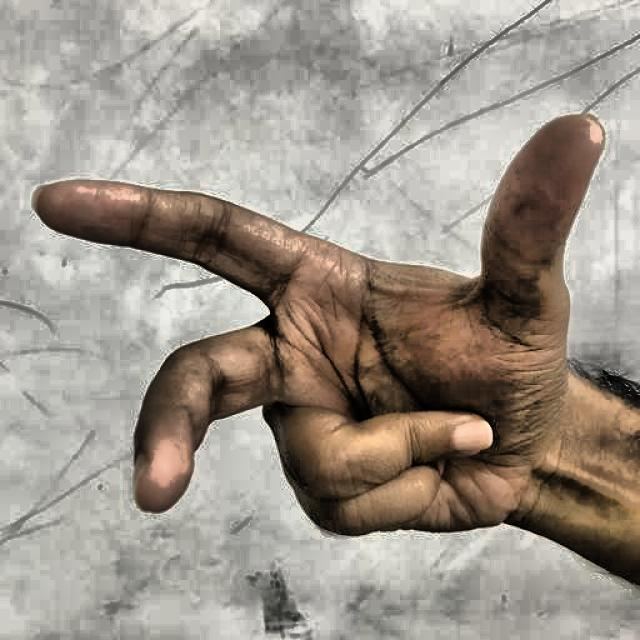Da: (13, 28, 620, 609)
